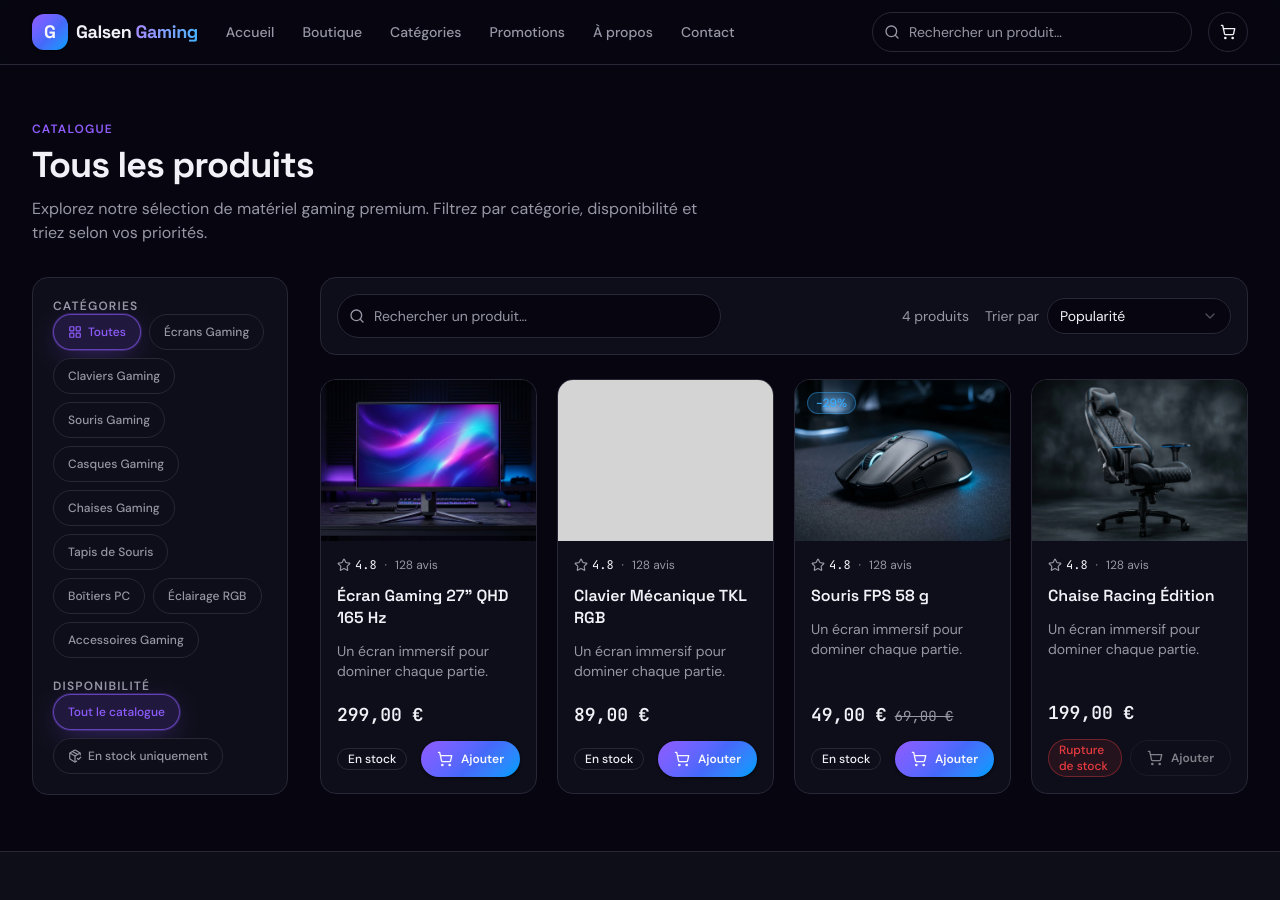
Test case: ShopPage › filters products by category and reflects it in the URL
expect the link "Écran Gaming 27\" QHD 165 Hz" is shown: met, box [337,585,508,628]
Click the button "Claviers Gaming": (114, 376) [53,358,175,394]
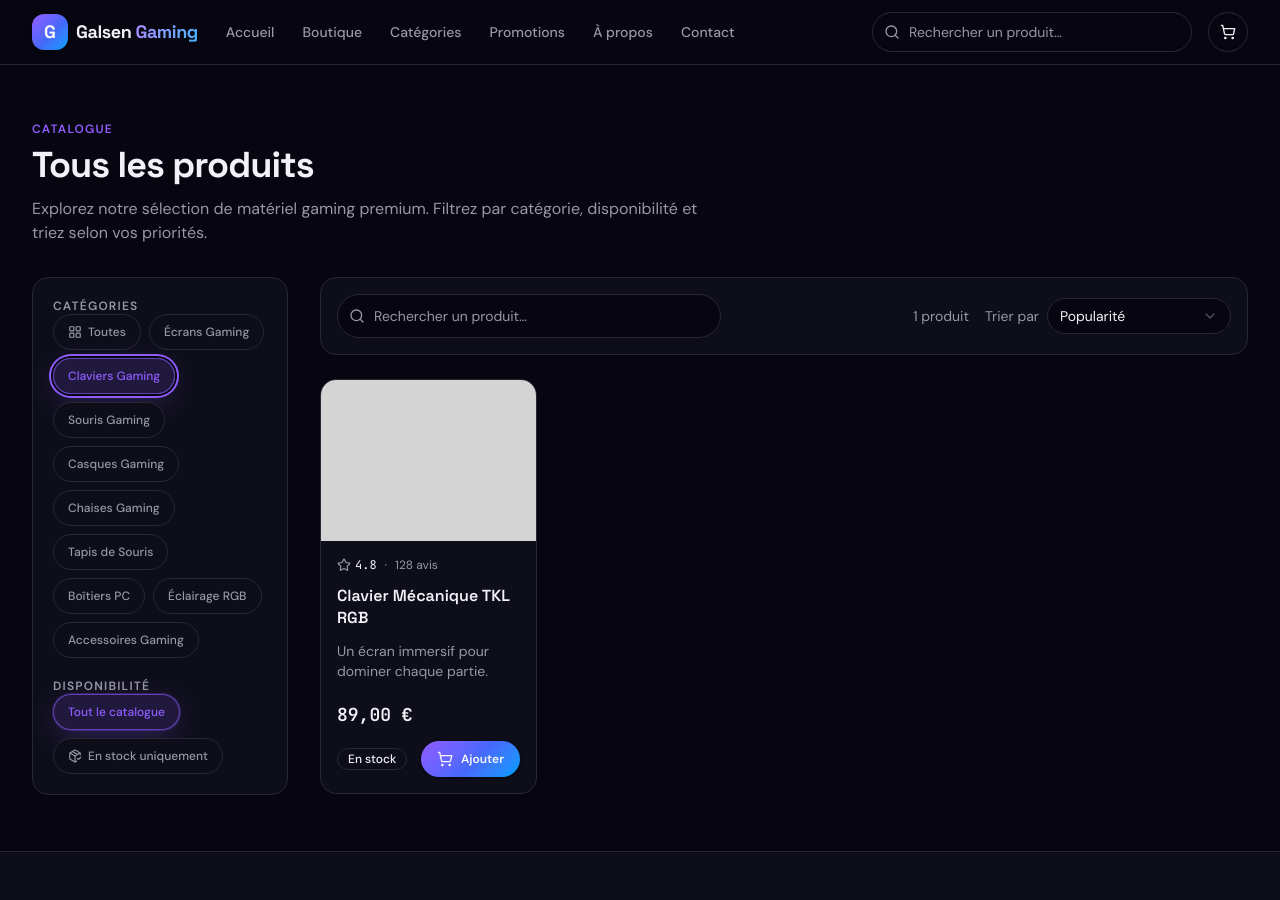
expect the link "Clavier Mécanique TKL RGB" is shown: met, box [337,585,509,628]
expect the link "Écran Gaming 27\" QHD 165 Hz" is gone: met
